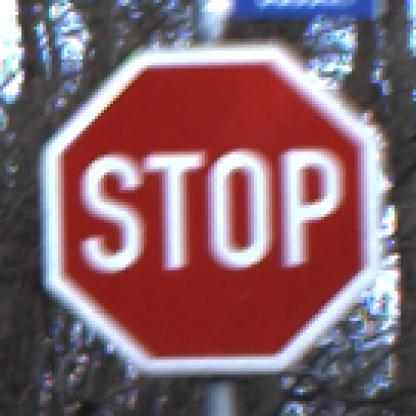stop: (35, 53, 378, 376)
